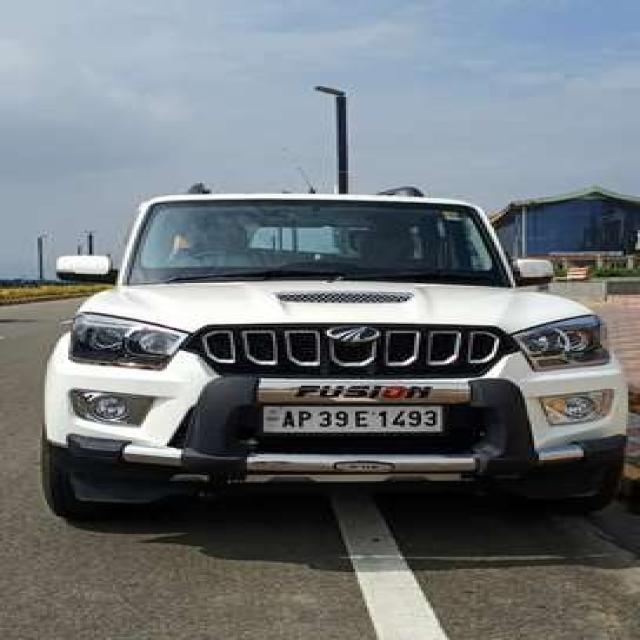licenseplate: (257, 401, 447, 436)
